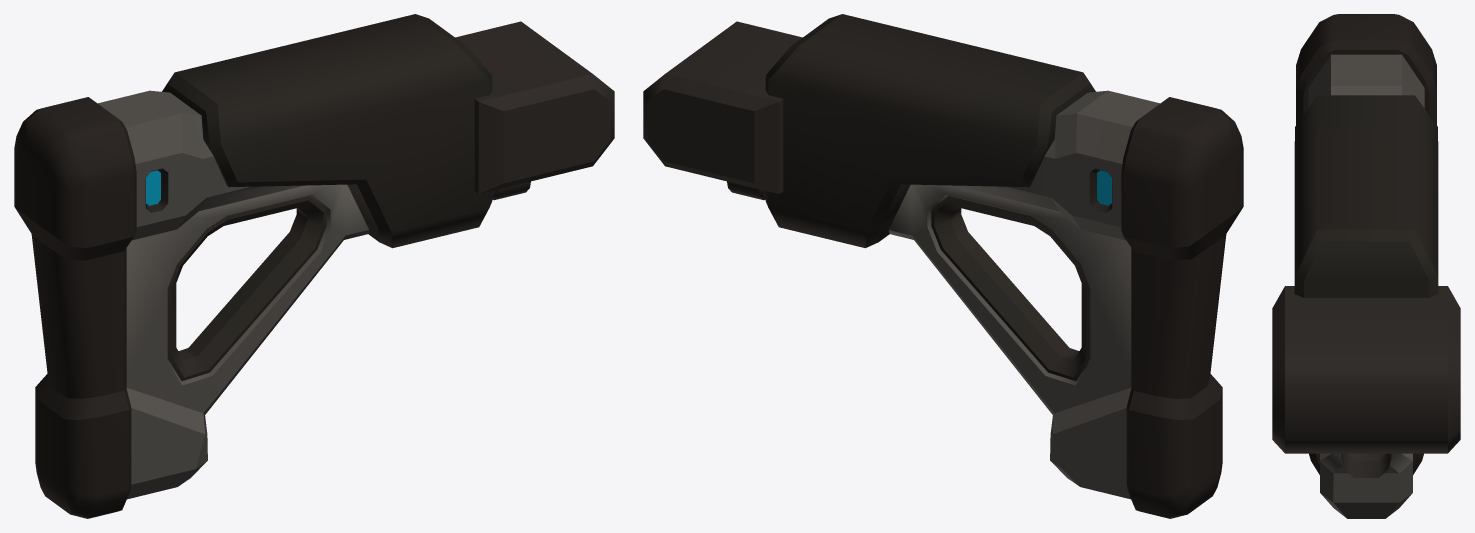
Rendered from SMG3_ButtstockHeavy.fbx.
3 views of the same model, side by side, from view 1: azimuth 30°, elevation 25°; view 2: azimuth 150°, elevation 25°; view 3: azimuth 270°, elevation 25° (orthographic). The views are drawn at different scales.
Visible parts, largest first — view 1: SMG3_ButtstockHeavy; view 2: SMG3_ButtstockHeavy; view 3: SMG3_ButtstockHeavy.
Part boxes in pixels (left/top/right/bottom): SMG3_ButtstockHeavy: left=14, top=14, right=614, bottom=518; SMG3_ButtstockHeavy: left=643, top=14, right=1243, bottom=518; SMG3_ButtstockHeavy: left=1272, top=14, right=1460, bottom=518.
Bounding box in the file's own units: 17.41 × 12.04 × 4.61.
